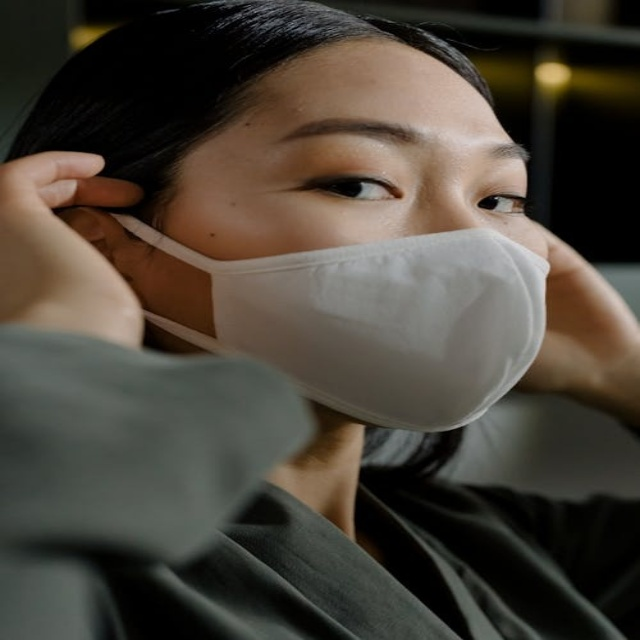Mascara: (109, 212, 552, 433)
Sin_gafas: (259, 102, 526, 217)
Sin_guantes: (1, 144, 148, 346)
